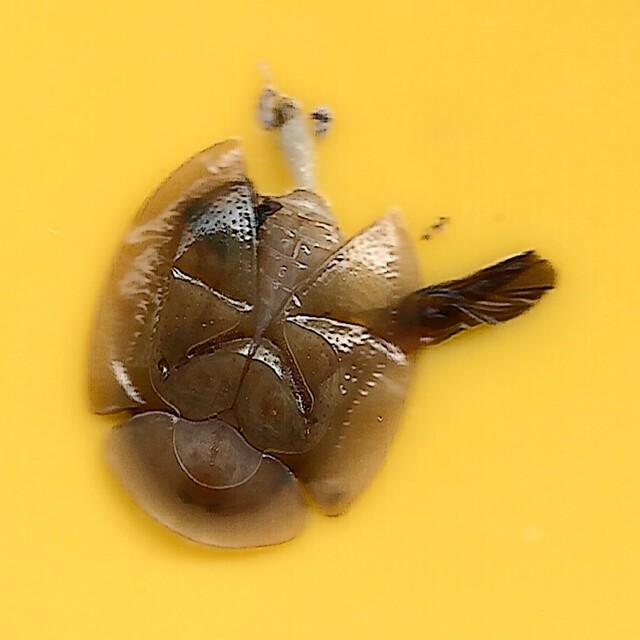Coleoptera: (79, 88, 561, 552)
